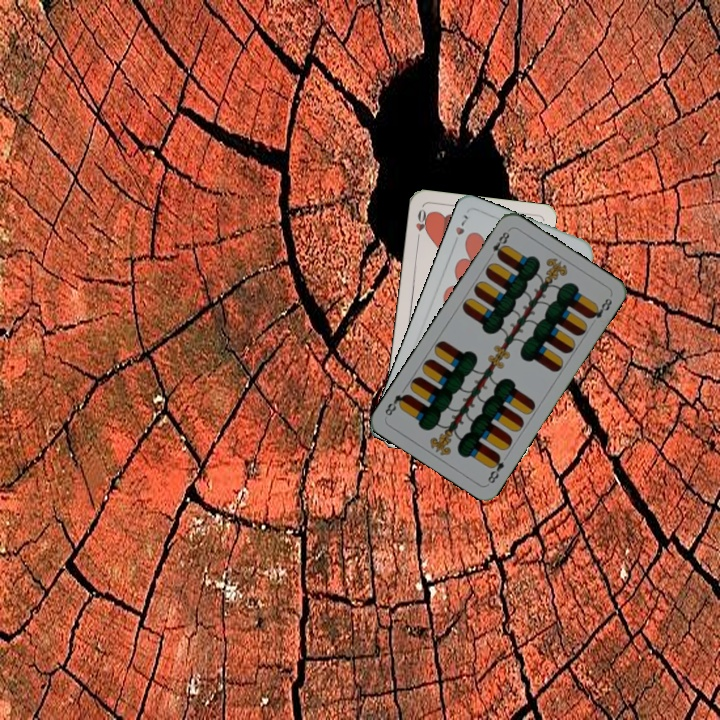E8: (485, 226, 512, 261), (483, 450, 507, 486)
H7: (451, 210, 471, 238)
HO: (412, 205, 431, 244)
